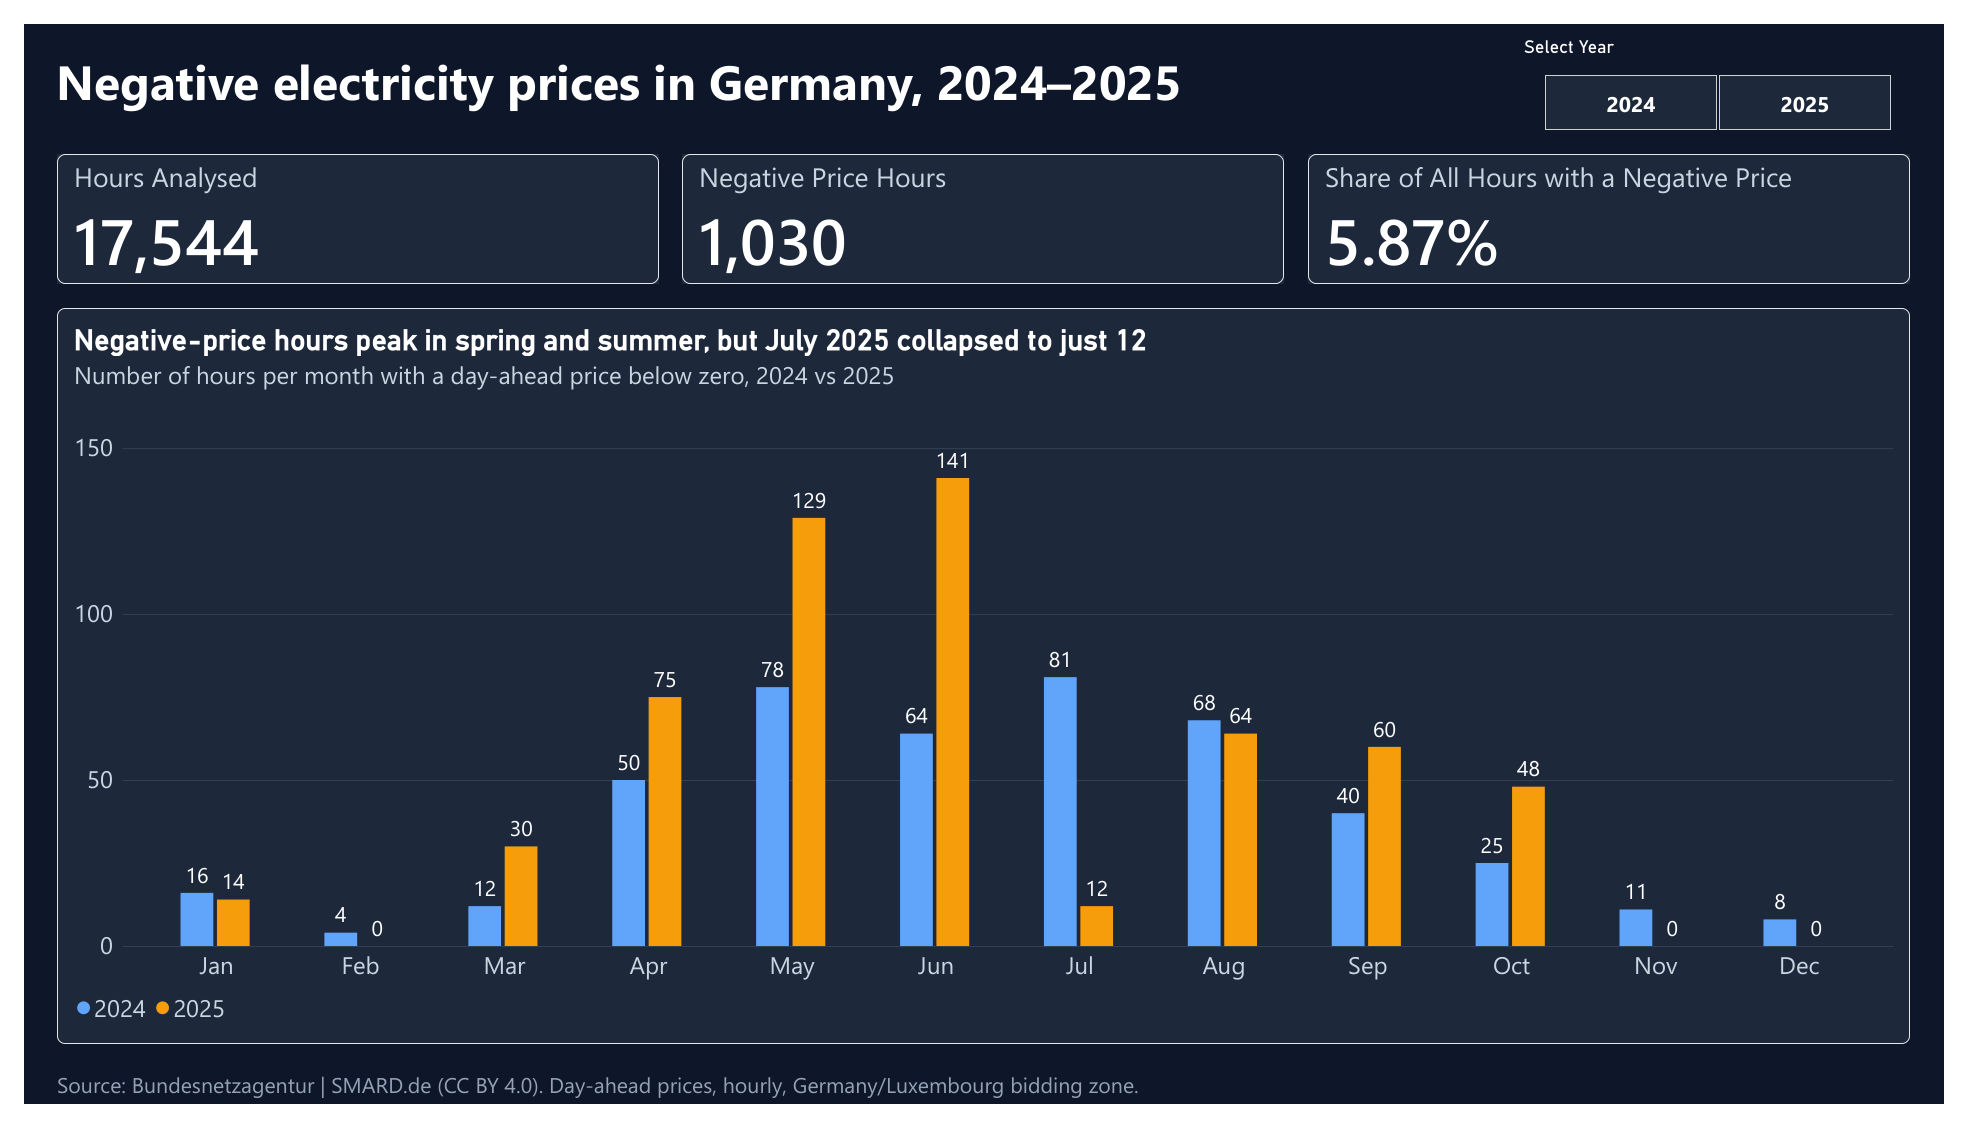

The dashboard page shown, as its layout file describes it:
{"tool":"powerbi","page":{"name":"Page 1","canvas":[1920,1080],"ordinal":0},"visuals":[{"type":"cardVisual","fields":{"Data":["market_hours.Total Hours Label"]},"box":[32.5,110,602,130],"z":0},{"type":"cardVisual","fields":{"Data":["market_hours.Negative Hours Label"]},"box":[658,110,602,130],"z":1000},{"type":"cardVisual","fields":{"Data":["market_hours.Negative Share"]},"box":[1284.1,110,602.4,130],"z":2000},{"type":"clusteredColumnChart","title":"Negative-price hours peak in spring and summer, but July 2025 collapsed to just 12","fields":{"Category":["market_hours.month_name"],"Series":["market_hours.year"],"Y":["market_hours.Negative Hours"]},"box":[32.5,264.1,1854,780.2],"z":3000},{"type":"slicer","title":"Select Year","fields":{"Values":["market_hours.year"]},"box":[1500.4,12,386,96],"z":4000},{"type":"textbox","box":[32,24,1400,80],"z":5000},{"type":"textbox","box":[32.5,1046.3,1854,29.5],"z":6000}]}

Visuals, with their boxes in screenshot pixels (x1, y1, x2, y2), scaled from the page's 1920x1080 canvas onto the 1968x1128 screenshot:
cardVisual - market_hours.Total Hours Label: crop(33, 115, 650, 251)
cardVisual - market_hours.Negative Hours Label: crop(674, 115, 1292, 251)
cardVisual - market_hours.Negative Share: crop(1316, 115, 1934, 251)
"Negative-price hours peak in spring and summer, but July 2025 collapsed to just 12" clusteredColumnChart: crop(33, 276, 1934, 1091)
"Select Year" slicer: crop(1538, 13, 1934, 113)
textbox: crop(33, 25, 1468, 109)
textbox: crop(33, 1093, 1934, 1124)
